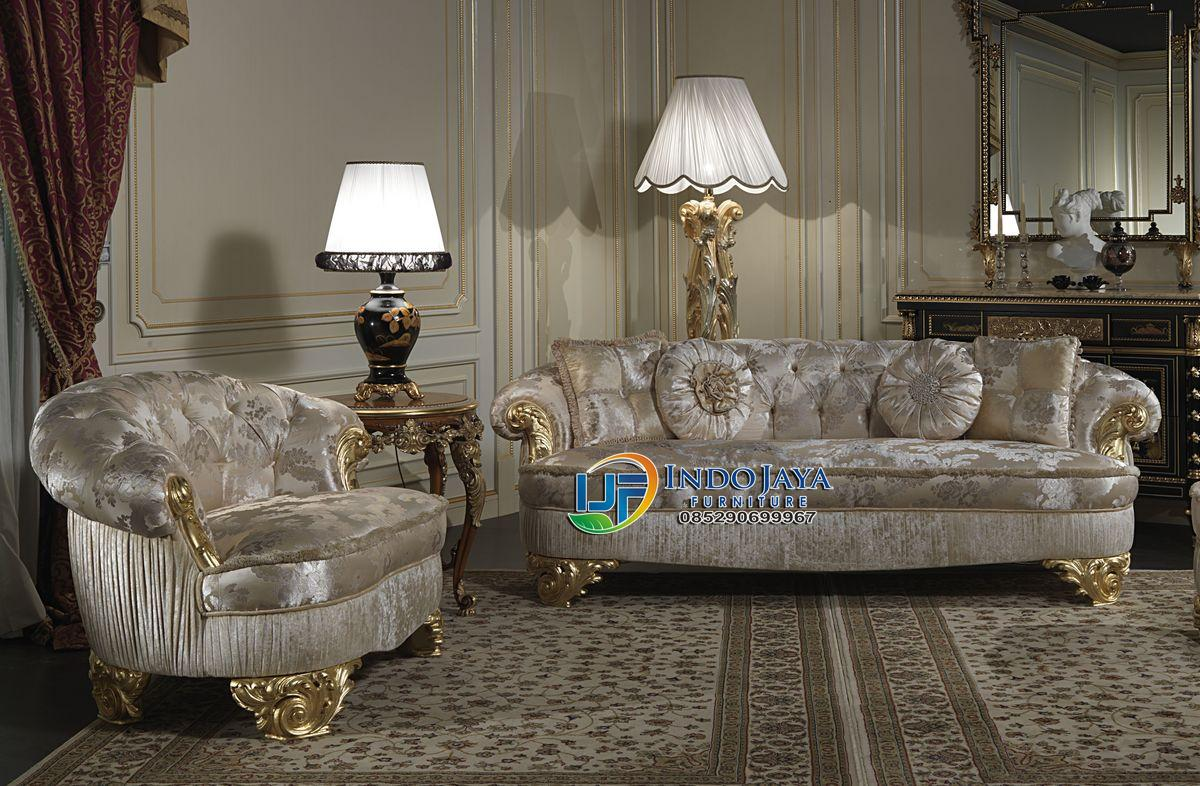Carving Chair: (485, 320, 1157, 619), (27, 346, 453, 739)
